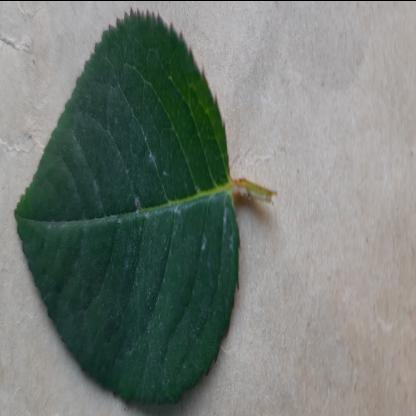normal: (14, 12, 238, 406)
